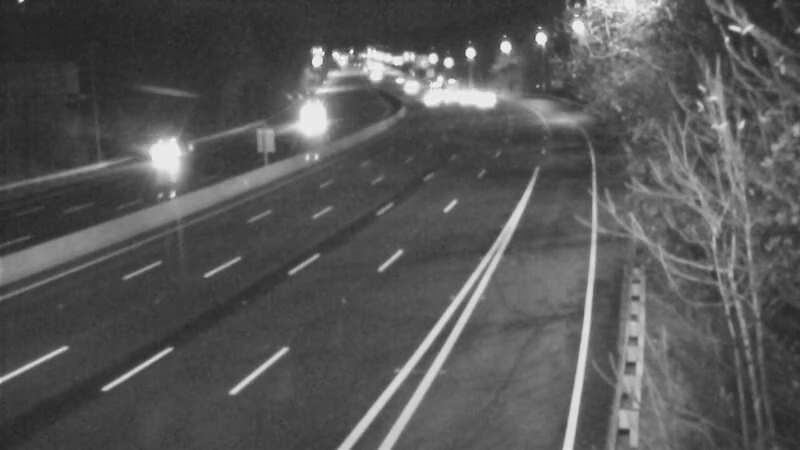vehicle: (121, 120, 201, 200), (379, 57, 429, 107), (426, 66, 476, 116), (457, 74, 507, 124), (438, 73, 488, 123), (407, 74, 457, 124), (287, 90, 337, 140)
